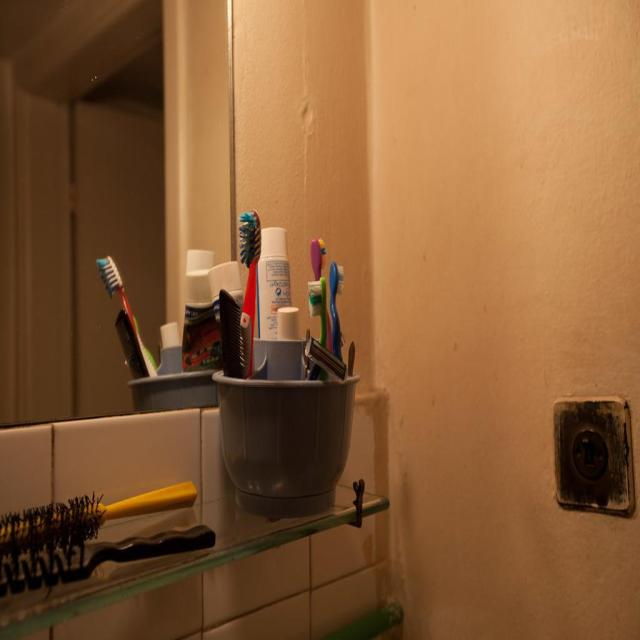Toothpaste: (256, 222, 293, 340)
